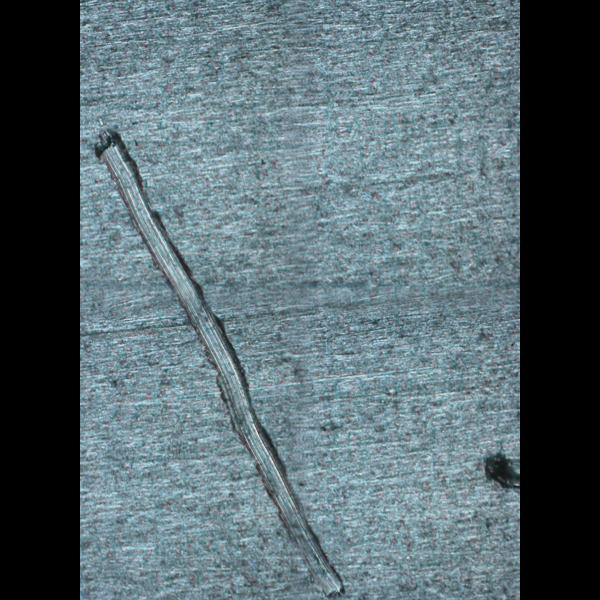d: (92, 123, 349, 599)
